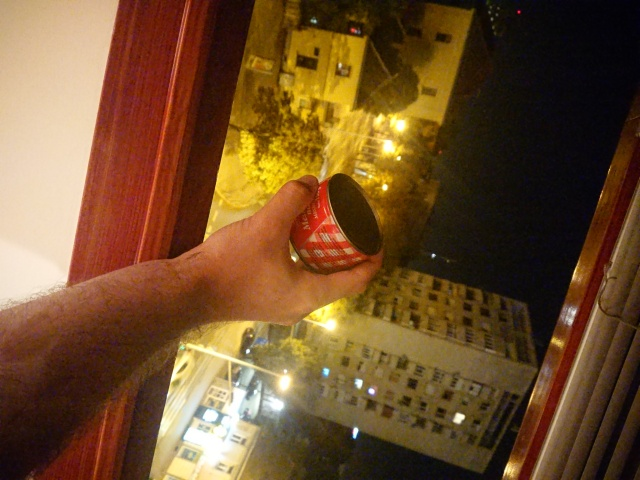Podravka Luncheon Meat 150g: (283, 171, 386, 277)
